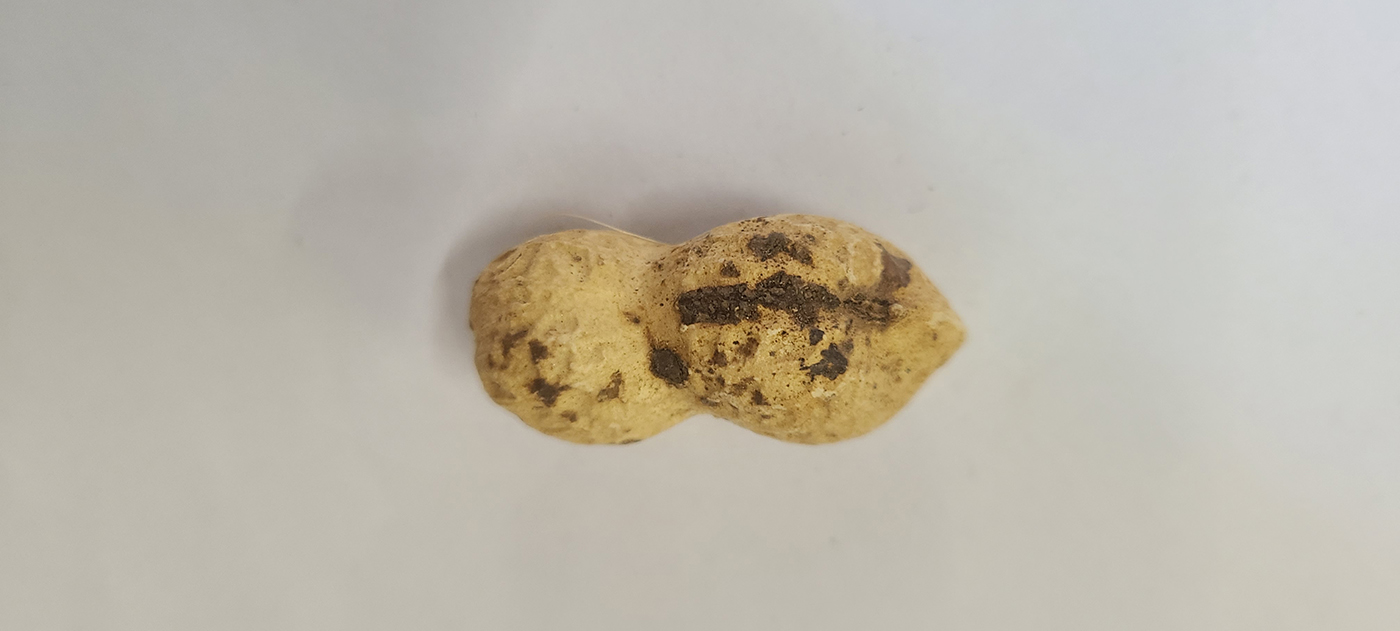h: (467, 209, 971, 449)
